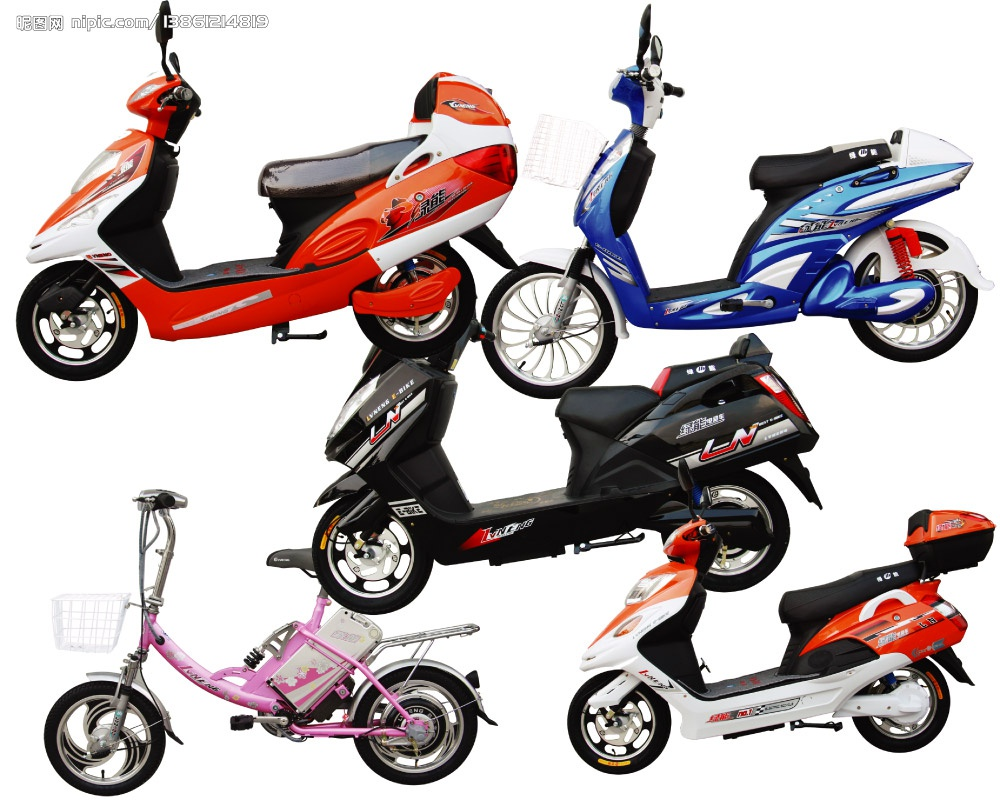non-vehicle: (484, 38, 988, 382), (15, 65, 516, 376), (312, 353, 806, 597), (554, 507, 1000, 777), (44, 548, 483, 789)
